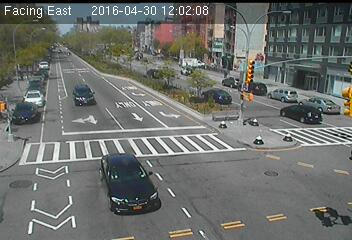neg: (258, 112, 278, 139), (317, 84, 332, 103), (34, 54, 46, 69), (14, 69, 23, 82), (131, 67, 140, 79), (242, 69, 250, 80)
